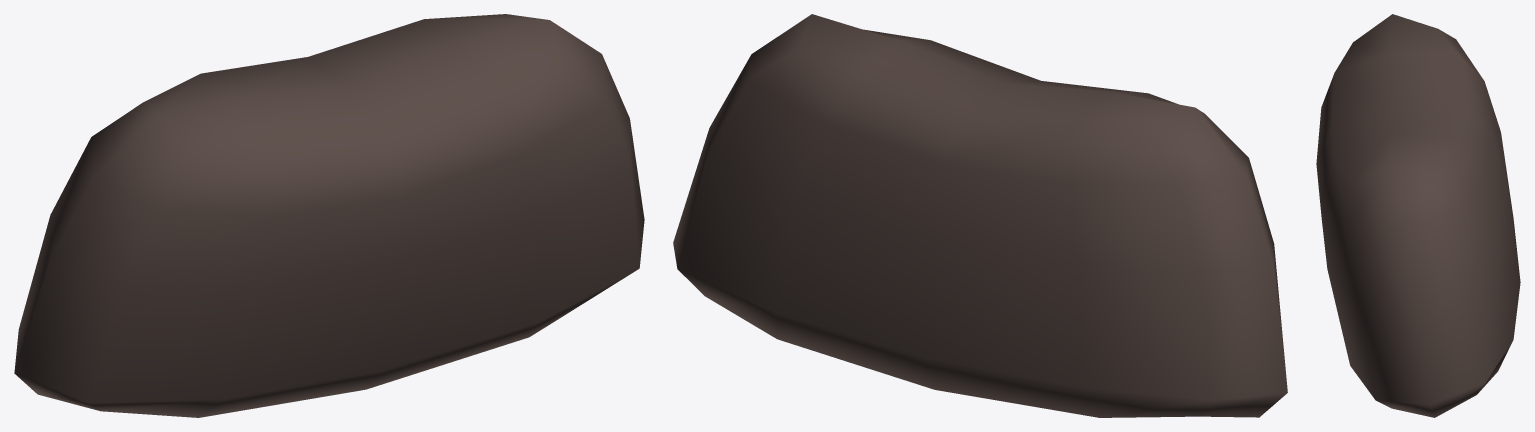
Rendered from Mustache_05.glb.
The picture shows the model from 3 angles, left to right: view 1: azimuth 30°, elevation 25°; view 2: azimuth 150°, elevation 25°; view 3: azimuth 270°, elevation 25°; orthographic projection. The views are drawn at different scales.
Parts seen in each view (by area): view 1: Mustache_05; view 2: Mustache_05; view 3: Mustache_05.
Boxes of the visible parts, x1,y1,x2,y2 form: Mustache_05: (14, 14, 644, 417); Mustache_05: (673, 14, 1287, 417); Mustache_05: (1316, 14, 1520, 417).
Size of the model in its own units: 0.1083 by 0.0513 by 0.0385.
Materials: 1 (1 with a texture image).
